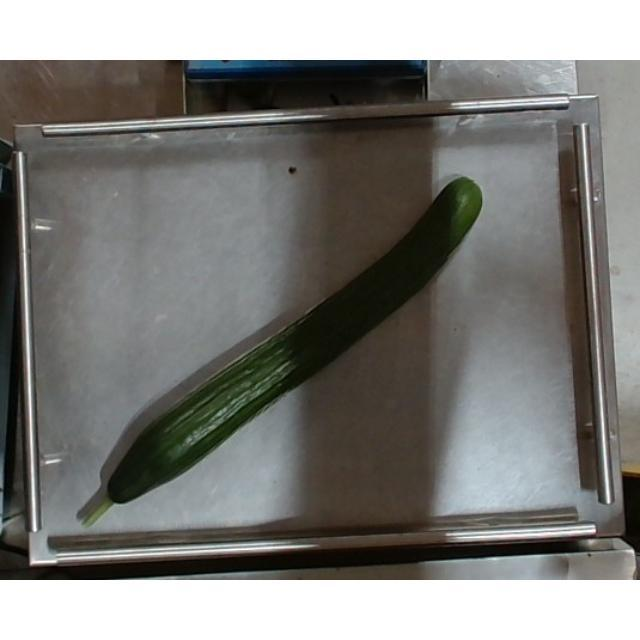cucumber: (99, 169, 475, 499)
